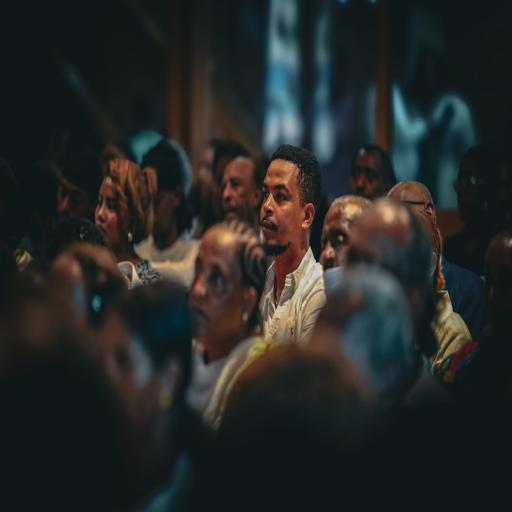face: (190, 226, 250, 361), (260, 160, 307, 256), (320, 199, 362, 270), (222, 158, 262, 223), (94, 176, 126, 254), (455, 154, 483, 220), (349, 150, 385, 200)
